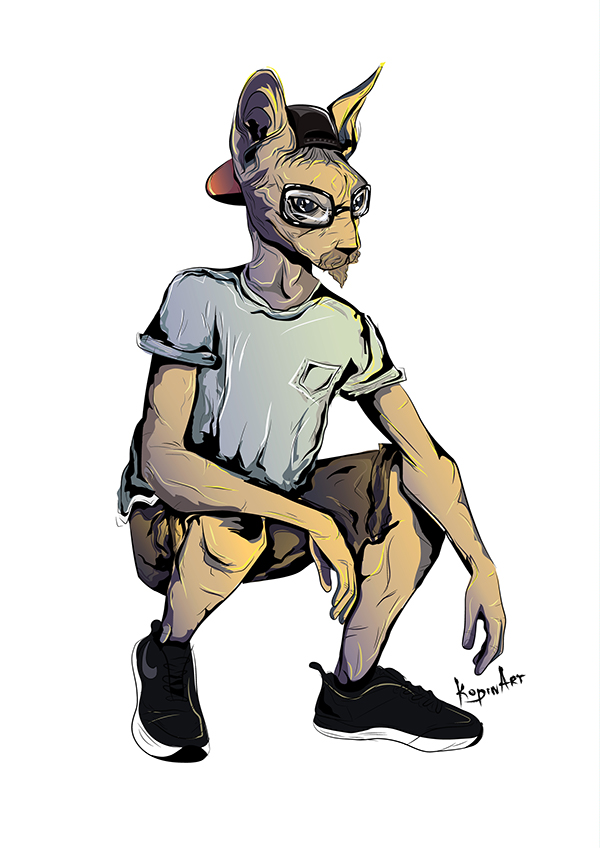dog: (111, 63, 430, 479)
